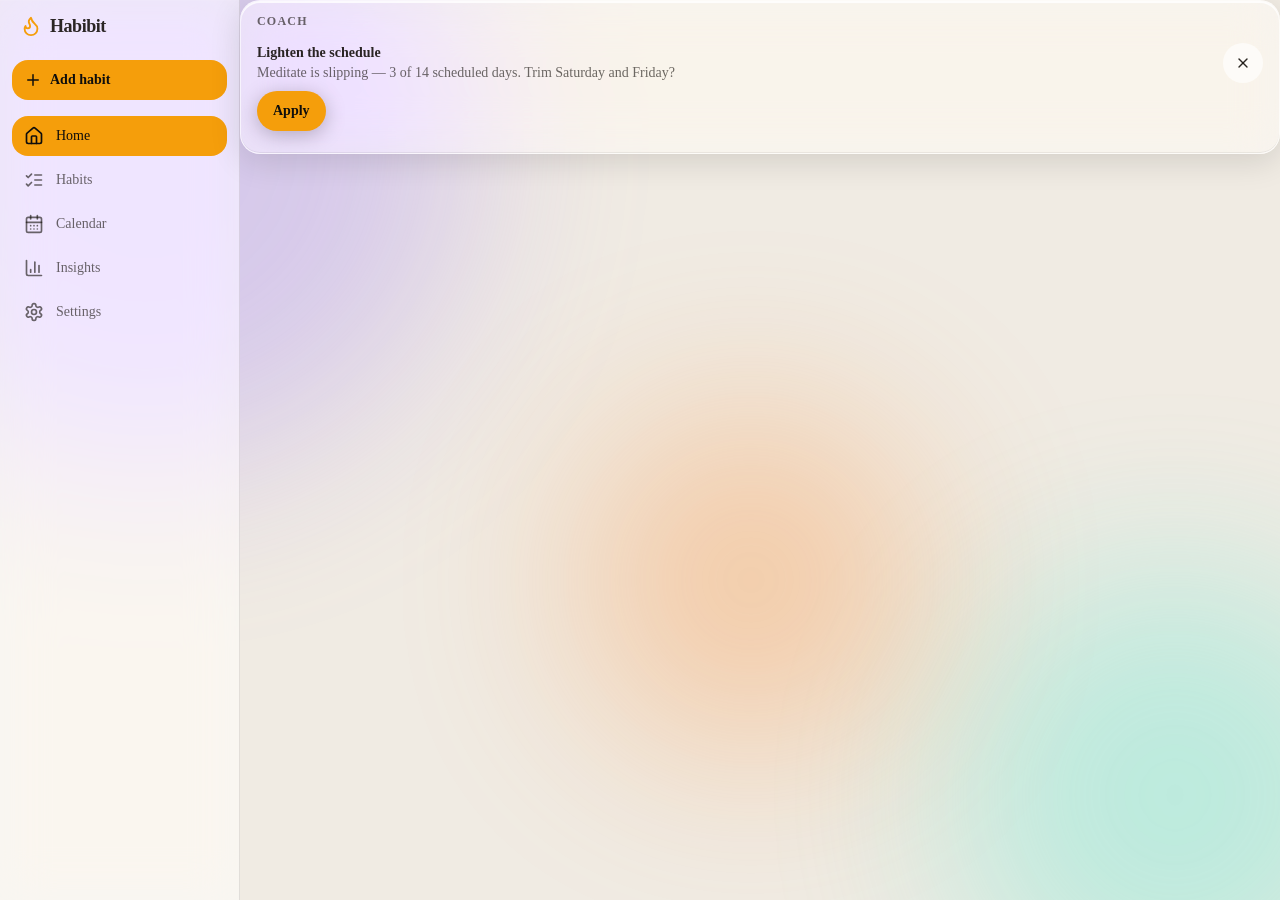
Scenario: CoachCard › routes a failed apply to the shared write-error banner (spec R4.2)
This screenshot has width=1280, height=900.
Click the button "Apply" at (291, 111), box [257,91,326,131]
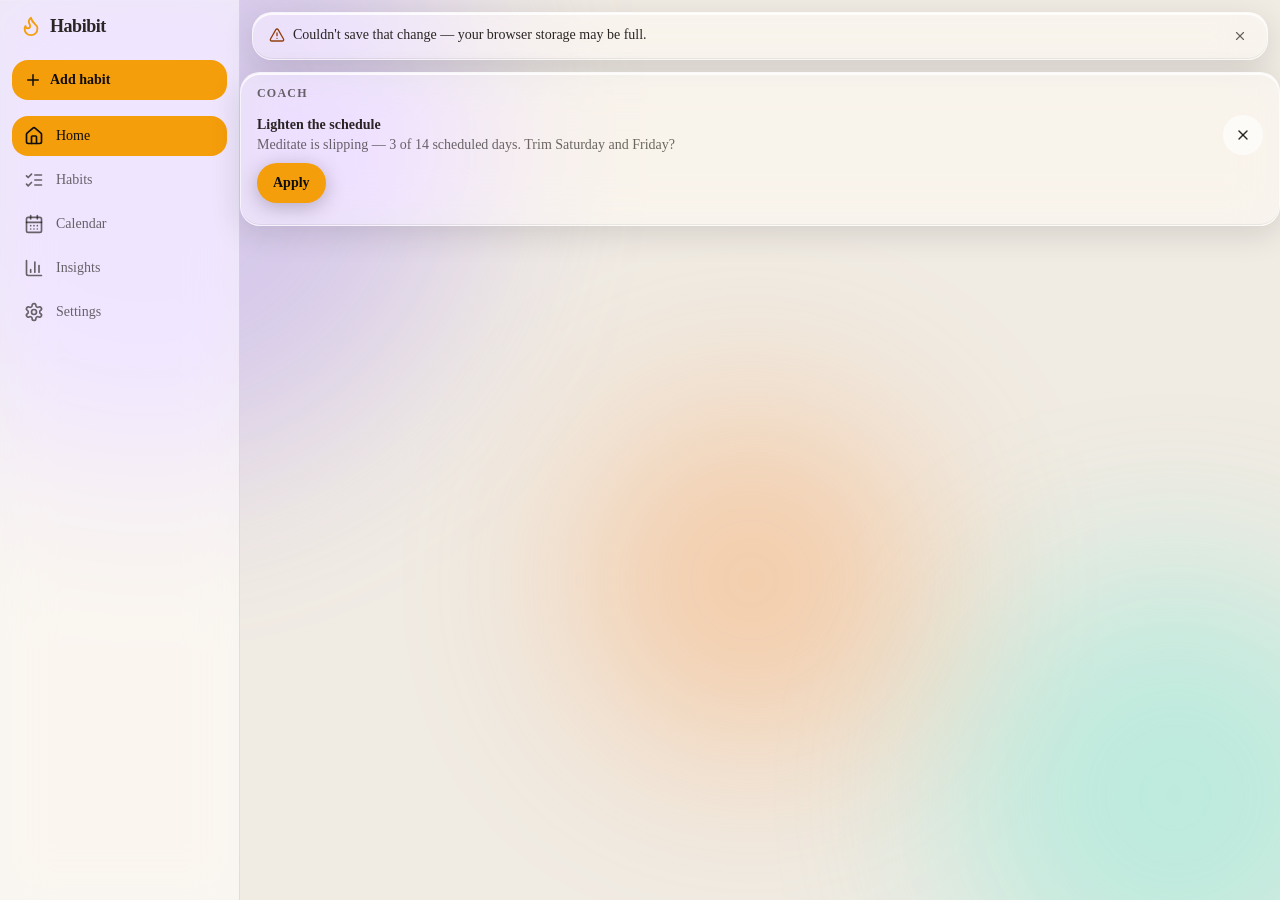
Expected: the message with test id "write-error" shows "Couldn't save that change", [293,27,647,42]
